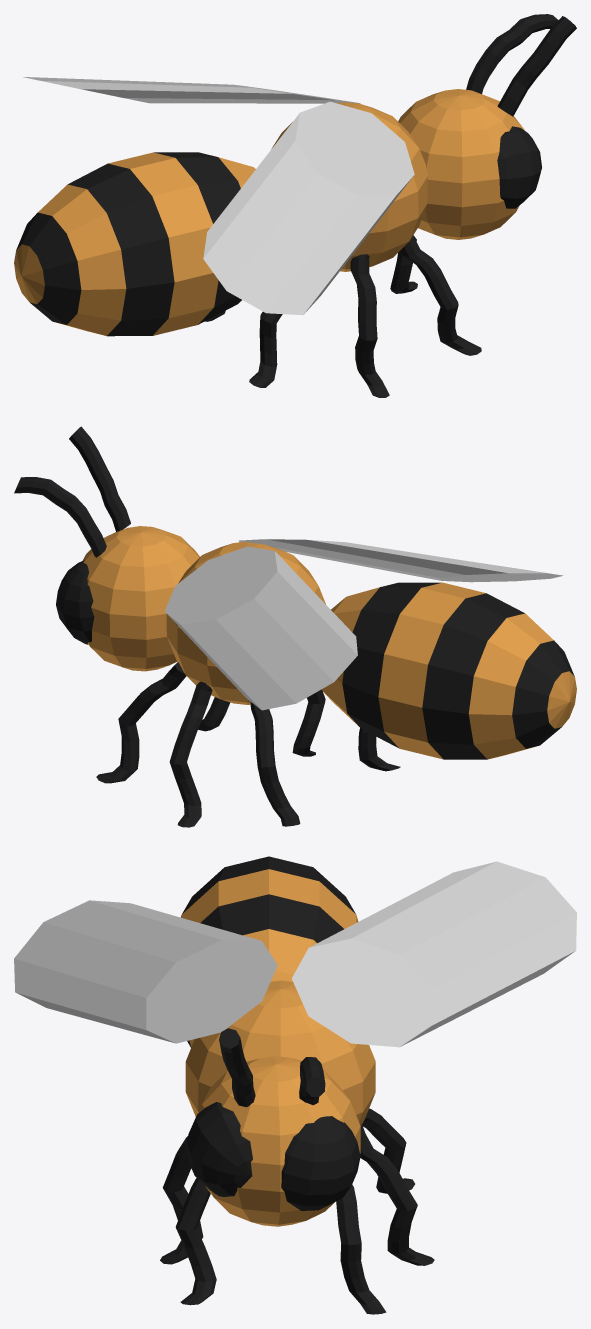
The model's file is Bee.fbx.
The picture shows the model from 3 angles, top to bottom: view 1: azimuth 30°, elevation 25°; view 2: azimuth 150°, elevation 25°; view 3: azimuth 270°, elevation 25°; orthographic projection. The views are drawn at different scales.
Visible parts, largest first — view 1: mesh_1147170821, group_1284537710, mesh_165695018, group_1747397838, mesh_433261968, mesh_1361532911, group_1992860481, group_916117618, group_1444295615, group_234171500, group_281193165, group_1143103459; view 2: mesh_1147170821, group_1747397838, mesh_165695018, group_1284537710, mesh_433261968, group_383608342, group_1143103459, group_1703551583, mesh_766564275, group_234171500, group_1444295615, group_1992860481 (+2 smaller); view 3: group_1747397838, group_1284537710, mesh_1147170821, mesh_165695018, mesh_433261968, mesh_766564275, mesh_1361532911, group_383608342, group_916117618, group_1143103459, group_1444295615, group_1992860481 (+2 smaller).
Part boxes in pixels (x1=…): mesh_1147170821: x1=14, y1=152, x2=255, y2=336; group_1284537710: x1=203, y1=101, x2=414, y2=315; mesh_165695018: x1=398, y1=89, x2=524, y2=239; group_1747397838: x1=23, y1=77, x2=360, y2=103; mesh_433261968: x1=271, y1=102, x2=427, y2=271; mesh_1361532911: x1=497, y1=126, x2=541, y2=208; group_1992860481: x1=350, y1=254, x2=389, y2=397; group_916117618: x1=401, y1=235, x2=481, y2=355; group_1444295615: x1=497, y1=16, x2=576, y2=116; group_234171500: x1=466, y1=14, x2=558, y2=93; group_281193165: x1=249, y1=312, x2=282, y2=387; group_1143103459: x1=390, y1=235, x2=417, y2=293; mesh_1147170821: x1=321, y1=582, x2=576, y2=759; group_1747397838: x1=164, y1=546, x2=357, y2=710; mesh_165695018: x1=83, y1=526, x2=199, y2=671; group_1284537710: x1=238, y1=539, x2=562, y2=582; mesh_433261968: x1=166, y1=542, x2=325, y2=704; group_383608342: x1=169, y1=681, x2=212, y2=827; group_1143103459: x1=96, y1=662, x2=186, y2=783; group_1703551583: x1=250, y1=702, x2=300, y2=826; mesh_766564275: x1=56, y1=560, x2=94, y2=644; group_234171500: x1=14, y1=477, x2=106, y2=557; group_1444295615: x1=69, y1=426, x2=130, y2=531; group_1992860481: x1=292, y1=689, x2=325, y2=756; group_1747397838: x1=291, y1=861, x2=576, y2=1047; group_1284537710: x1=14, y1=900, x2=277, y2=1043; mesh_1147170821: x1=181, y1=856, x2=358, y2=1047; mesh_165695018: x1=199, y1=1056, x2=360, y2=1226; mesh_433261968: x1=185, y1=980, x2=375, y2=1125; mesh_766564275: x1=281, y1=1116, x2=360, y2=1210; mesh_1361532911: x1=186, y1=1102, x2=252, y2=1196; group_383608342: x1=360, y1=1124, x2=434, y2=1265; group_916117618: x1=175, y1=1177, x2=216, y2=1305; group_1143103459: x1=336, y1=1184, x2=386, y2=1314; group_1444295615: x1=219, y1=1028, x2=255, y2=1107; group_1992860481: x1=160, y1=1136, x2=203, y2=1264.
Bounding box in the file's own units: 33.91 × 17.92 × 26.24.
